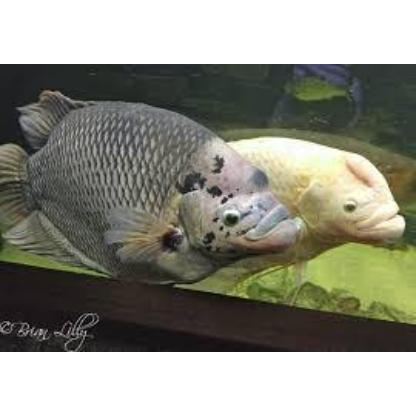gurame: (1, 90, 298, 286), (237, 138, 405, 254)
